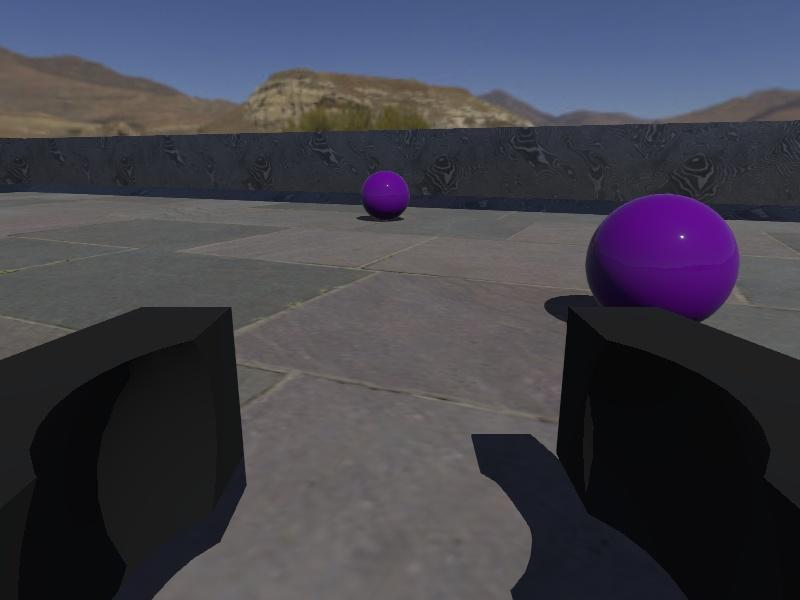violet ball: (359, 168, 410, 222)
